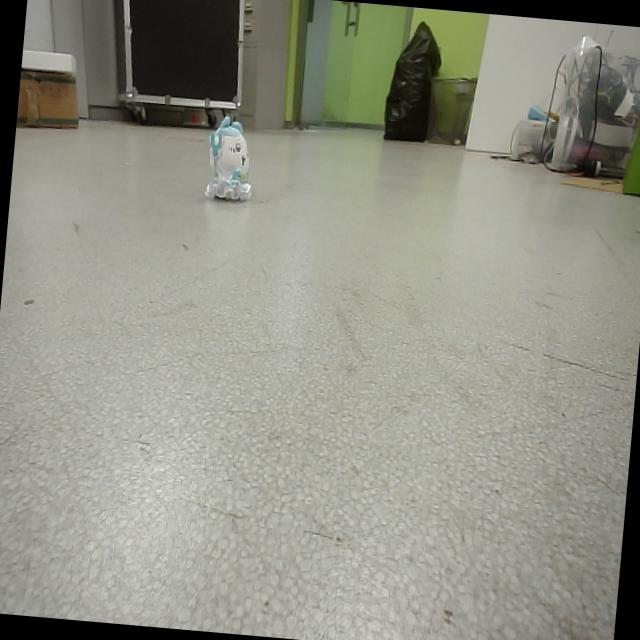xiaoba: (205, 111, 259, 207)
